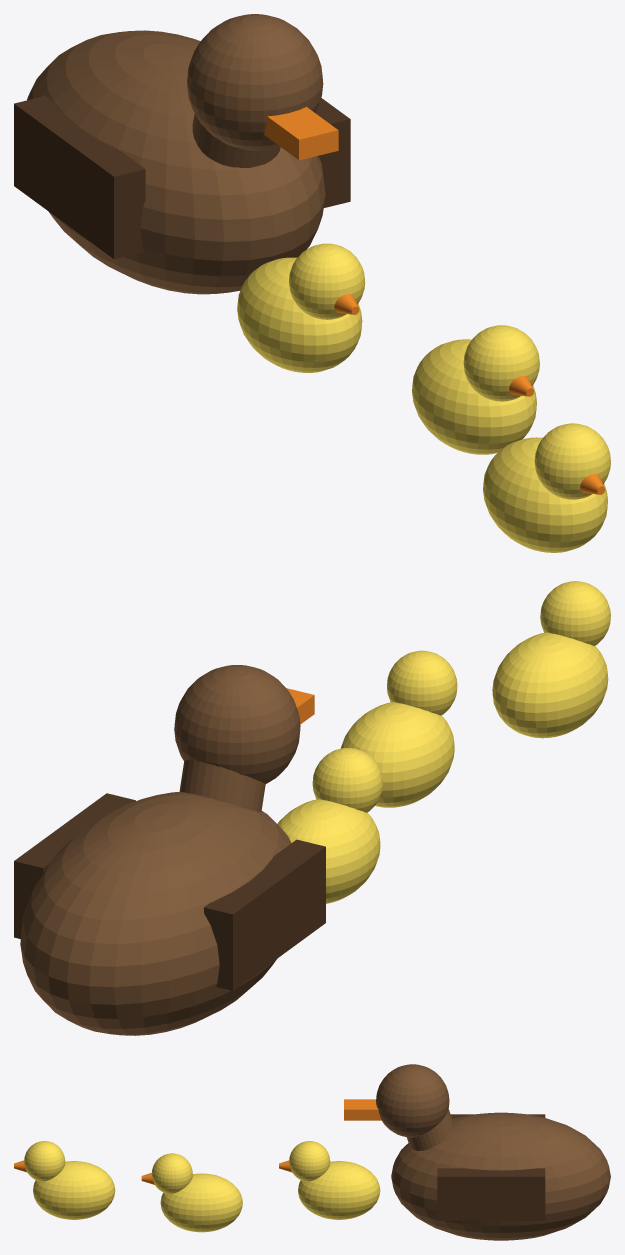
The model's file is duck-family.glb.
3 renders of one model, top to bottom at view 1: azimuth 30°, elevation 25°; view 2: azimuth 150°, elevation 25°; view 3: azimuth 270°, elevation 25°, orthographic. The views are drawn at different scales.
Visible parts, largest first — view 1: Sphere, Cube, Sphere.001, Sphere.002, Sphere.010, Sphere.006, Sphere.007, Sphere.011, Sphere.003, Cube.004, Cube.002, Cylinder; view 2: Sphere, Sphere.001, Cube, Sphere.010, Sphere.006, Sphere.002, Sphere.007, Sphere.003, Sphere.011, Cube.002, Cylinder; view 3: Sphere, Cube.002, Sphere.001, Sphere.006, Sphere.002, Sphere.010, Sphere.003, Sphere.011, Sphere.007, Cylinder, Cube.004.
Boxes of the visible parts, x1=… form: Sphere: x1=27, y1=30, x2=325, y2=294; Cube: x1=14, y1=96, x2=145, y2=259; Sphere.001: x1=187, y1=14, x2=323, y2=150; Sphere.002: x1=237, y1=257, x2=362, y2=372; Sphere.010: x1=483, y1=437, x2=607, y2=552; Sphere.006: x1=412, y1=339, x2=536, y2=454; Sphere.007: x1=463, y1=325, x2=539, y2=401; Sphere.011: x1=534, y1=423, x2=610, y2=499; Sphere.003: x1=289, y1=243, x2=365, y2=319; Cube.004: x1=264, y1=107, x2=338, y2=160; Cube.002: x1=315, y1=98, x2=350, y2=207; Cylinder: x1=192, y1=113, x2=280, y2=167; Sphere: x1=20, y1=791, x2=291, y2=1035; Sphere.001: x1=174, y1=665, x2=300, y2=783; Cube: x1=204, y1=839, x2=325, y2=990; Sphere.010: x1=492, y1=632, x2=608, y2=738; Sphere.006: x1=340, y1=702, x2=454, y2=807; Sphere.002: x1=277, y1=799, x2=380, y2=903; Sphere.007: x1=387, y1=650, x2=457, y2=715; Sphere.003: x1=312, y1=748, x2=383, y2=812; Sphere.011: x1=540, y1=581, x2=610, y2=645; Cube.002: x1=14, y1=793, x2=135, y2=938; Cylinder: x1=179, y1=760, x2=265, y2=811; Sphere: x1=391, y1=1112, x2=610, y2=1240; Cube.002: x1=437, y1=1168, x2=545, y2=1220; Sphere.001: x1=376, y1=1064, x2=449, y2=1137; Sphere.006: x1=160, y1=1173, x2=242, y2=1232; Sphere.002: x1=298, y1=1161, x2=380, y2=1219; Sphere.010: x1=33, y1=1161, x2=115, y2=1219; Sphere.003: x1=289, y1=1141, x2=330, y2=1181; Sphere.011: x1=24, y1=1141, x2=65, y2=1181; Sphere.007: x1=151, y1=1153, x2=192, y2=1194; Cylinder: x1=407, y1=1109, x2=453, y2=1150; Cube.004: x1=344, y1=1099, x2=381, y2=1120.
Bounding box in the file's own units: 0.3 × 0.373 × 1.22.
